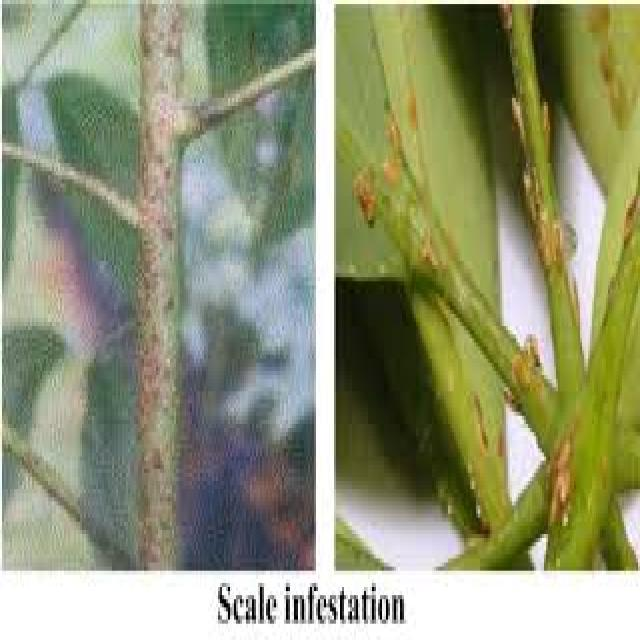scale_insect: (540, 456, 574, 530), (346, 159, 378, 232), (512, 147, 540, 224), (602, 61, 630, 135), (548, 424, 576, 485), (528, 204, 552, 273), (536, 82, 556, 159), (616, 179, 638, 249), (506, 338, 532, 396), (582, 0, 616, 41), (504, 81, 526, 142), (376, 146, 404, 192), (400, 70, 420, 134), (382, 102, 404, 159), (594, 32, 616, 82), (134, 16, 158, 53), (492, 0, 516, 37), (158, 146, 176, 188), (158, 273, 176, 314), (158, 203, 176, 244), (150, 428, 166, 473), (144, 526, 164, 562), (162, 24, 182, 53)
